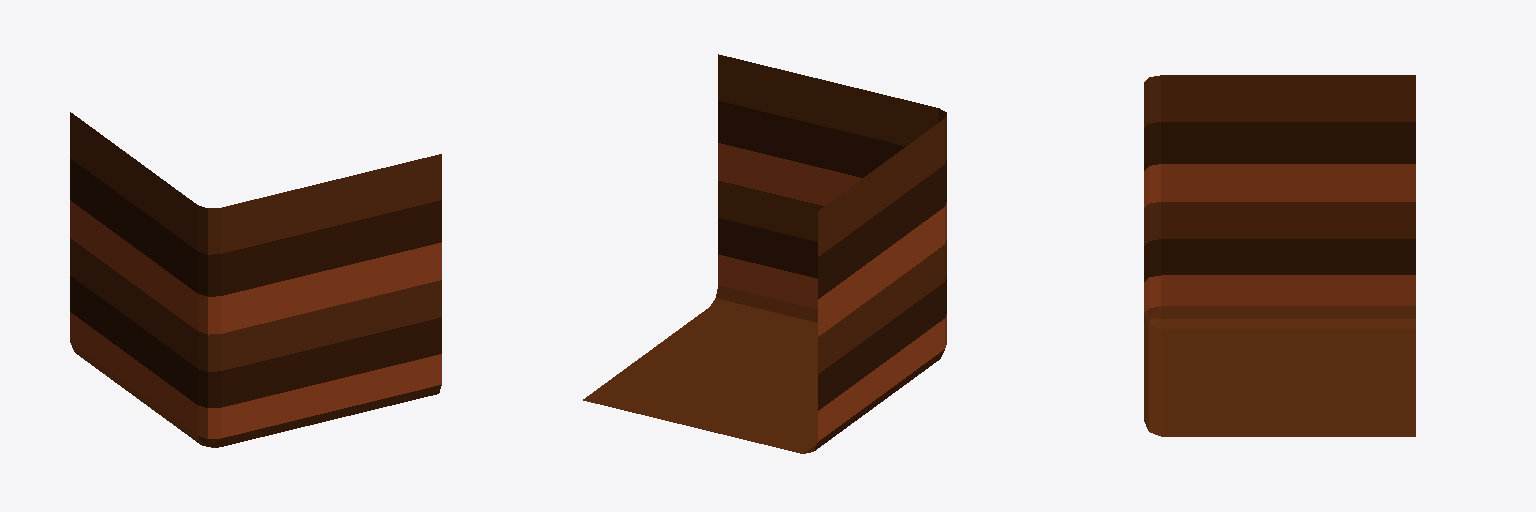
File: Cube_Grass_CornerBottom_Tall.obj
3 renders of one model, left to right at view 1: azimuth 30°, elevation 25°; view 2: azimuth 150°, elevation 25°; view 3: azimuth 270°, elevation 25°, orthographic.
Parts seen in each view (by area): view 1: Cube_Grass_CornerBottom_Tall_Cube.387; view 2: Cube_Grass_CornerBottom_Tall_Cube.387; view 3: Cube_Grass_CornerBottom_Tall_Cube.387.
Part boxes in pixels (bbox=[...]): Cube_Grass_CornerBottom_Tall_Cube.387: bbox=[70, 112, 441, 447]; Cube_Grass_CornerBottom_Tall_Cube.387: bbox=[583, 54, 946, 453]; Cube_Grass_CornerBottom_Tall_Cube.387: bbox=[1144, 75, 1415, 436].
Size of the model in its own units: 2 by 2 by 2.